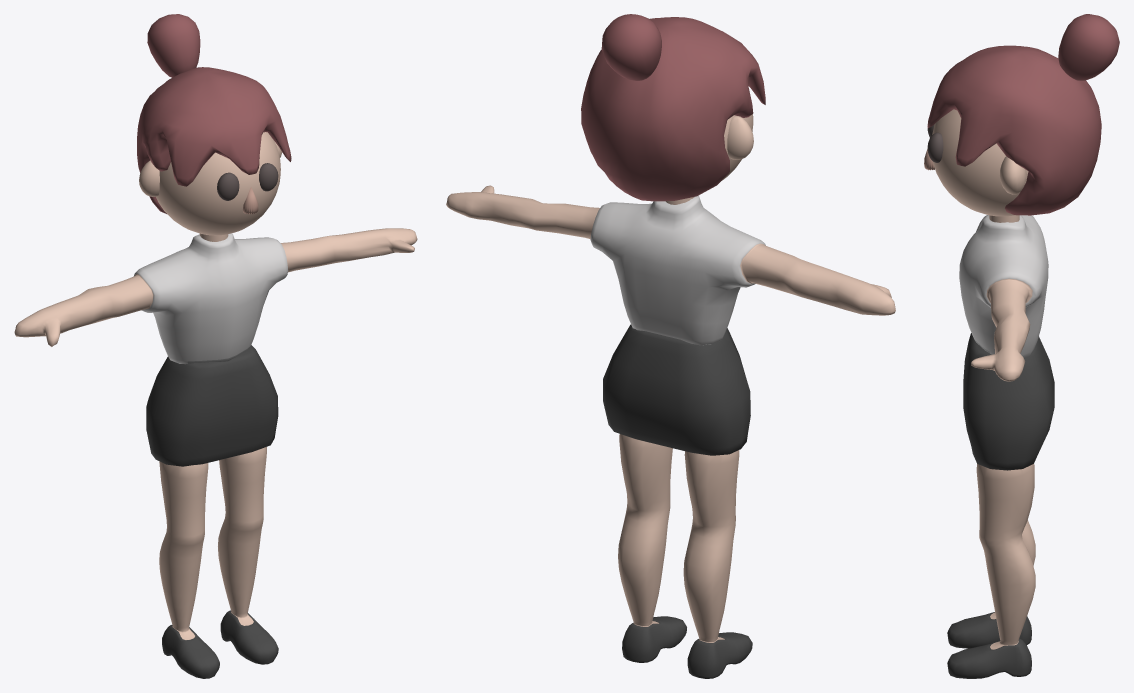
File: maidFBX.fbx
The picture shows the model from 3 angles, left to right: view 1: azimuth 30°, elevation 25°; view 2: azimuth 150°, elevation 25°; view 3: azimuth 270°, elevation 25°; orthographic projection. The views are drawn at different scales.
Parts seen in each view (by area): view 1: pCube10, maid_pSphere12, pCube8, pSphere16; view 2: pCube10, maid_pSphere12, pCube8; view 3: maid_pSphere12, pCube10, pCube8, pSphere16.
Boxes of the visible parts, x1,y1,x2,y2 form: pCube10: (146, 345, 278, 678); maid_pSphere12: (137, 14, 291, 235); pCube8: (14, 228, 417, 364); pSphere16: (217, 163, 278, 200); pCube10: (603, 324, 752, 678); maid_pSphere12: (581, 14, 765, 201); pCube8: (446, 185, 895, 345); maid_pSphere12: (924, 14, 1119, 216); pCube10: (947, 333, 1054, 678); pCube8: (959, 215, 1048, 381); pSphere16: (927, 124, 943, 162).
Bounding box in the file's own units: 25.38 × 36.6 × 10.12.
